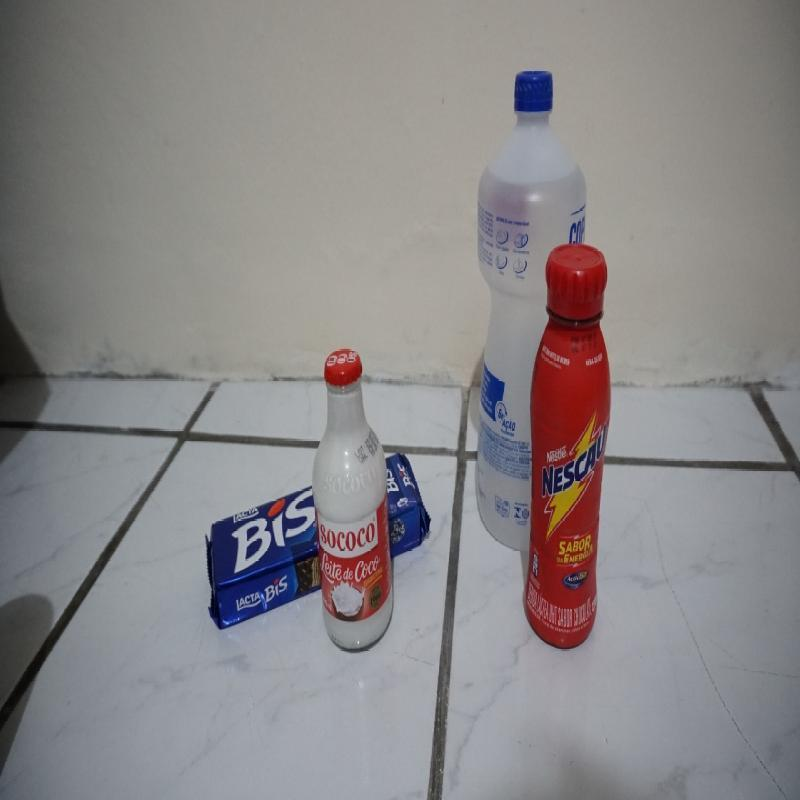Alcohol Bottle: (476, 68, 589, 562)
Chocolate Milk: (522, 242, 610, 651)
Coconut Milk: (313, 347, 396, 654)
